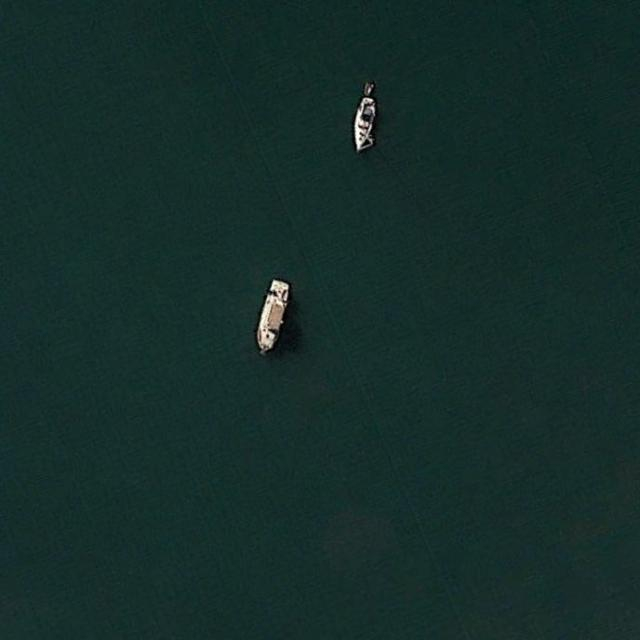ship: (256, 276, 292, 352), (352, 97, 380, 154)
